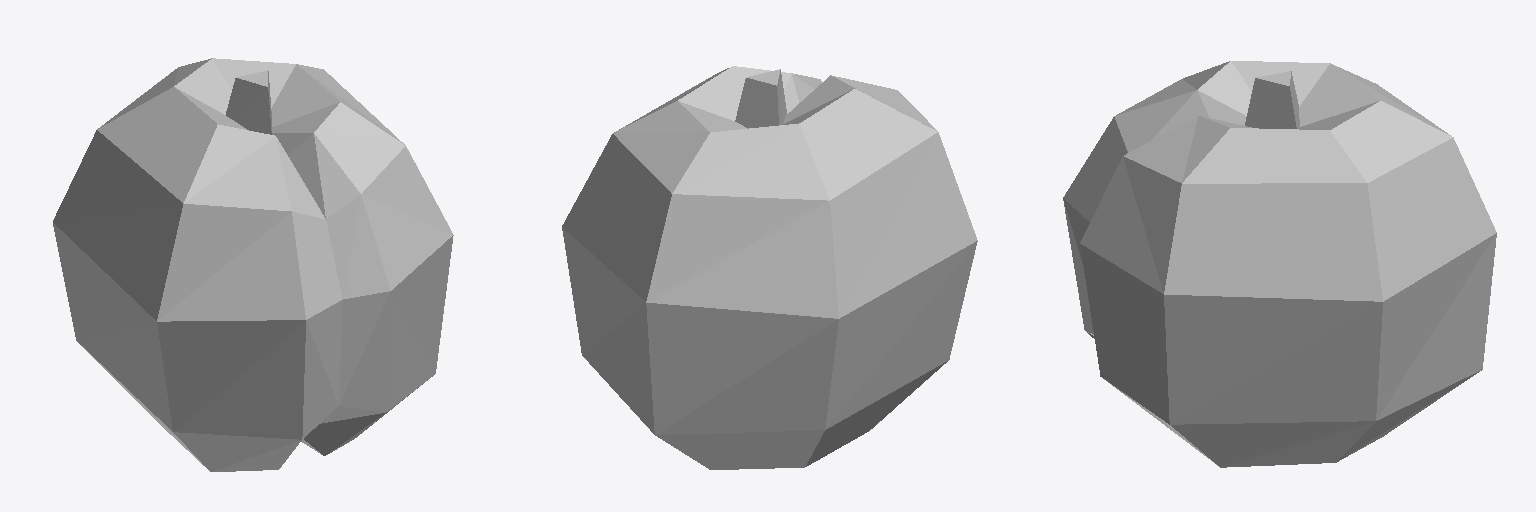
File: SM_Prop_Apricot_01.obj
3 views of the same model, side by side, from view 1: azimuth 30°, elevation 25°; view 2: azimuth 150°, elevation 25°; view 3: azimuth 270°, elevation 25° (orthographic).
Size of the model in its own units: 8.6 by 9.47 by 10.47.